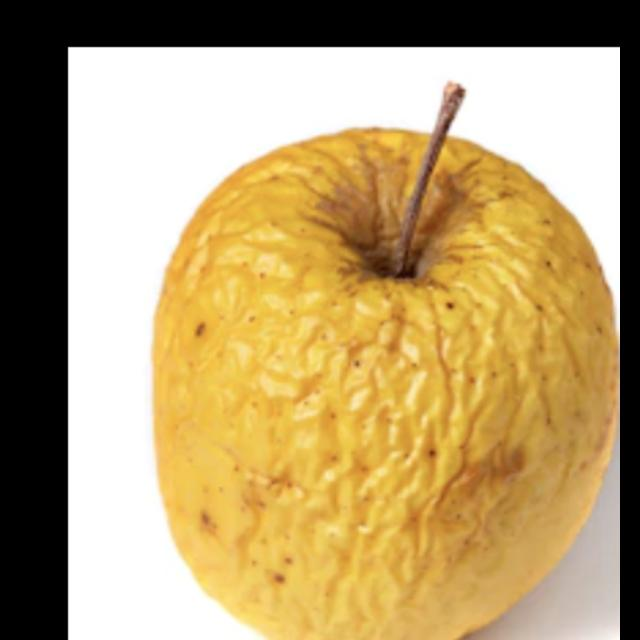Apel Tidak Segar: (148, 125, 620, 640)
